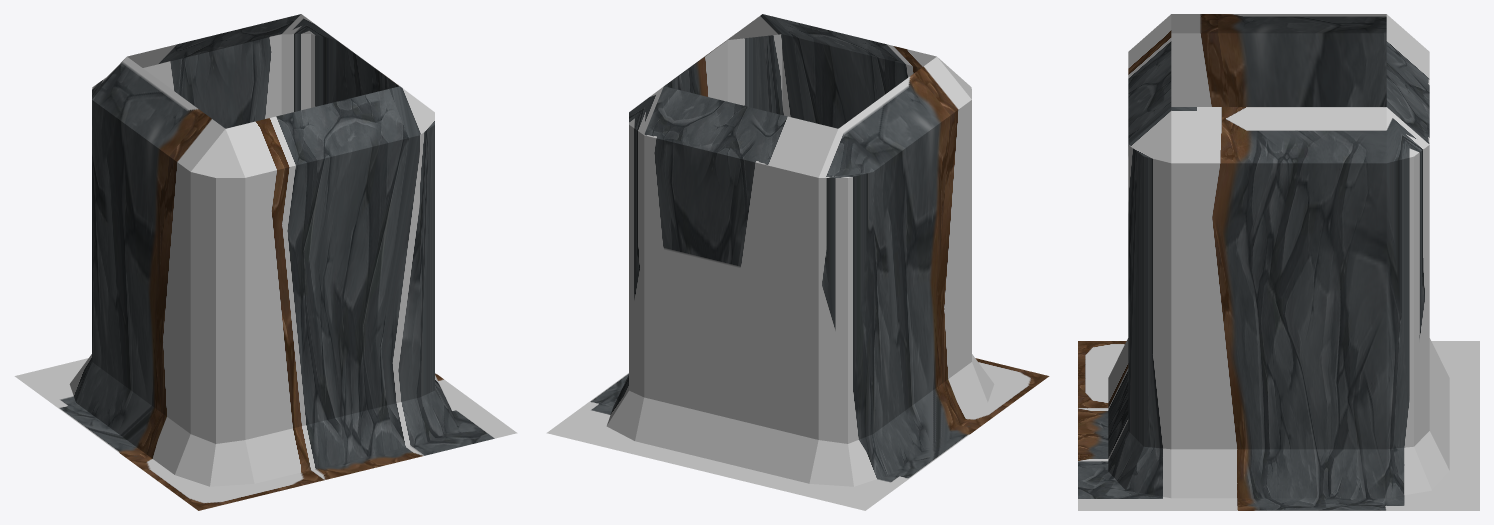
The model's file is IslandWallTile.fbx.
The picture shows the model from 3 angles, left to right: view 1: azimuth 30°, elevation 25°; view 2: azimuth 150°, elevation 25°; view 3: azimuth 270°, elevation 25°; orthographic projection. The views are drawn at different scales.
Visible parts, largest first — view 1: IslandWall; view 2: IslandWall; view 3: IslandWall.
Part boxes in pixels (<box>): IslandWall: <box>14,14,517,510</box>; IslandWall: <box>546,14,1049,510</box>; IslandWall: <box>1078,14,1479,510</box>.
Bounding box in the file's own units: 100 × 100 × 100.
